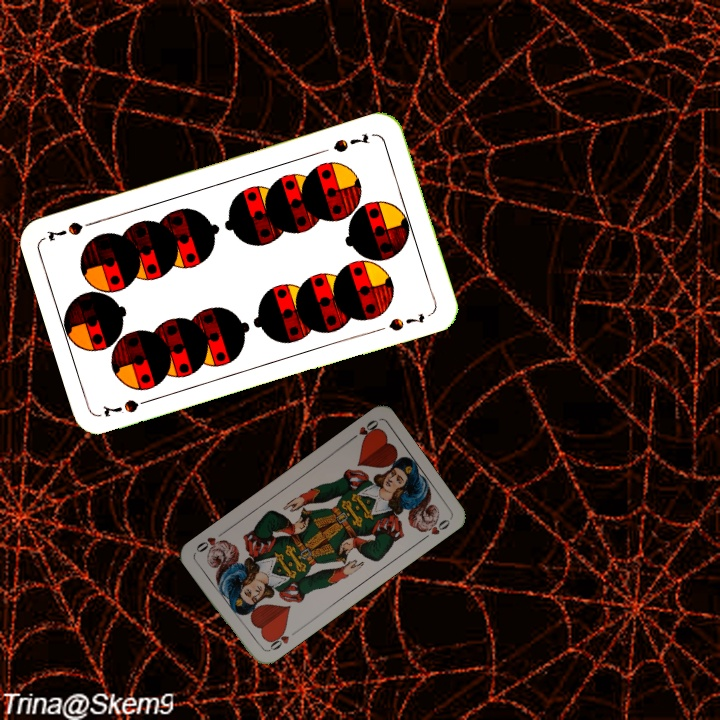HO: (264, 625, 300, 654), (345, 416, 382, 444)
S7: (98, 394, 156, 420), (328, 129, 372, 155)
